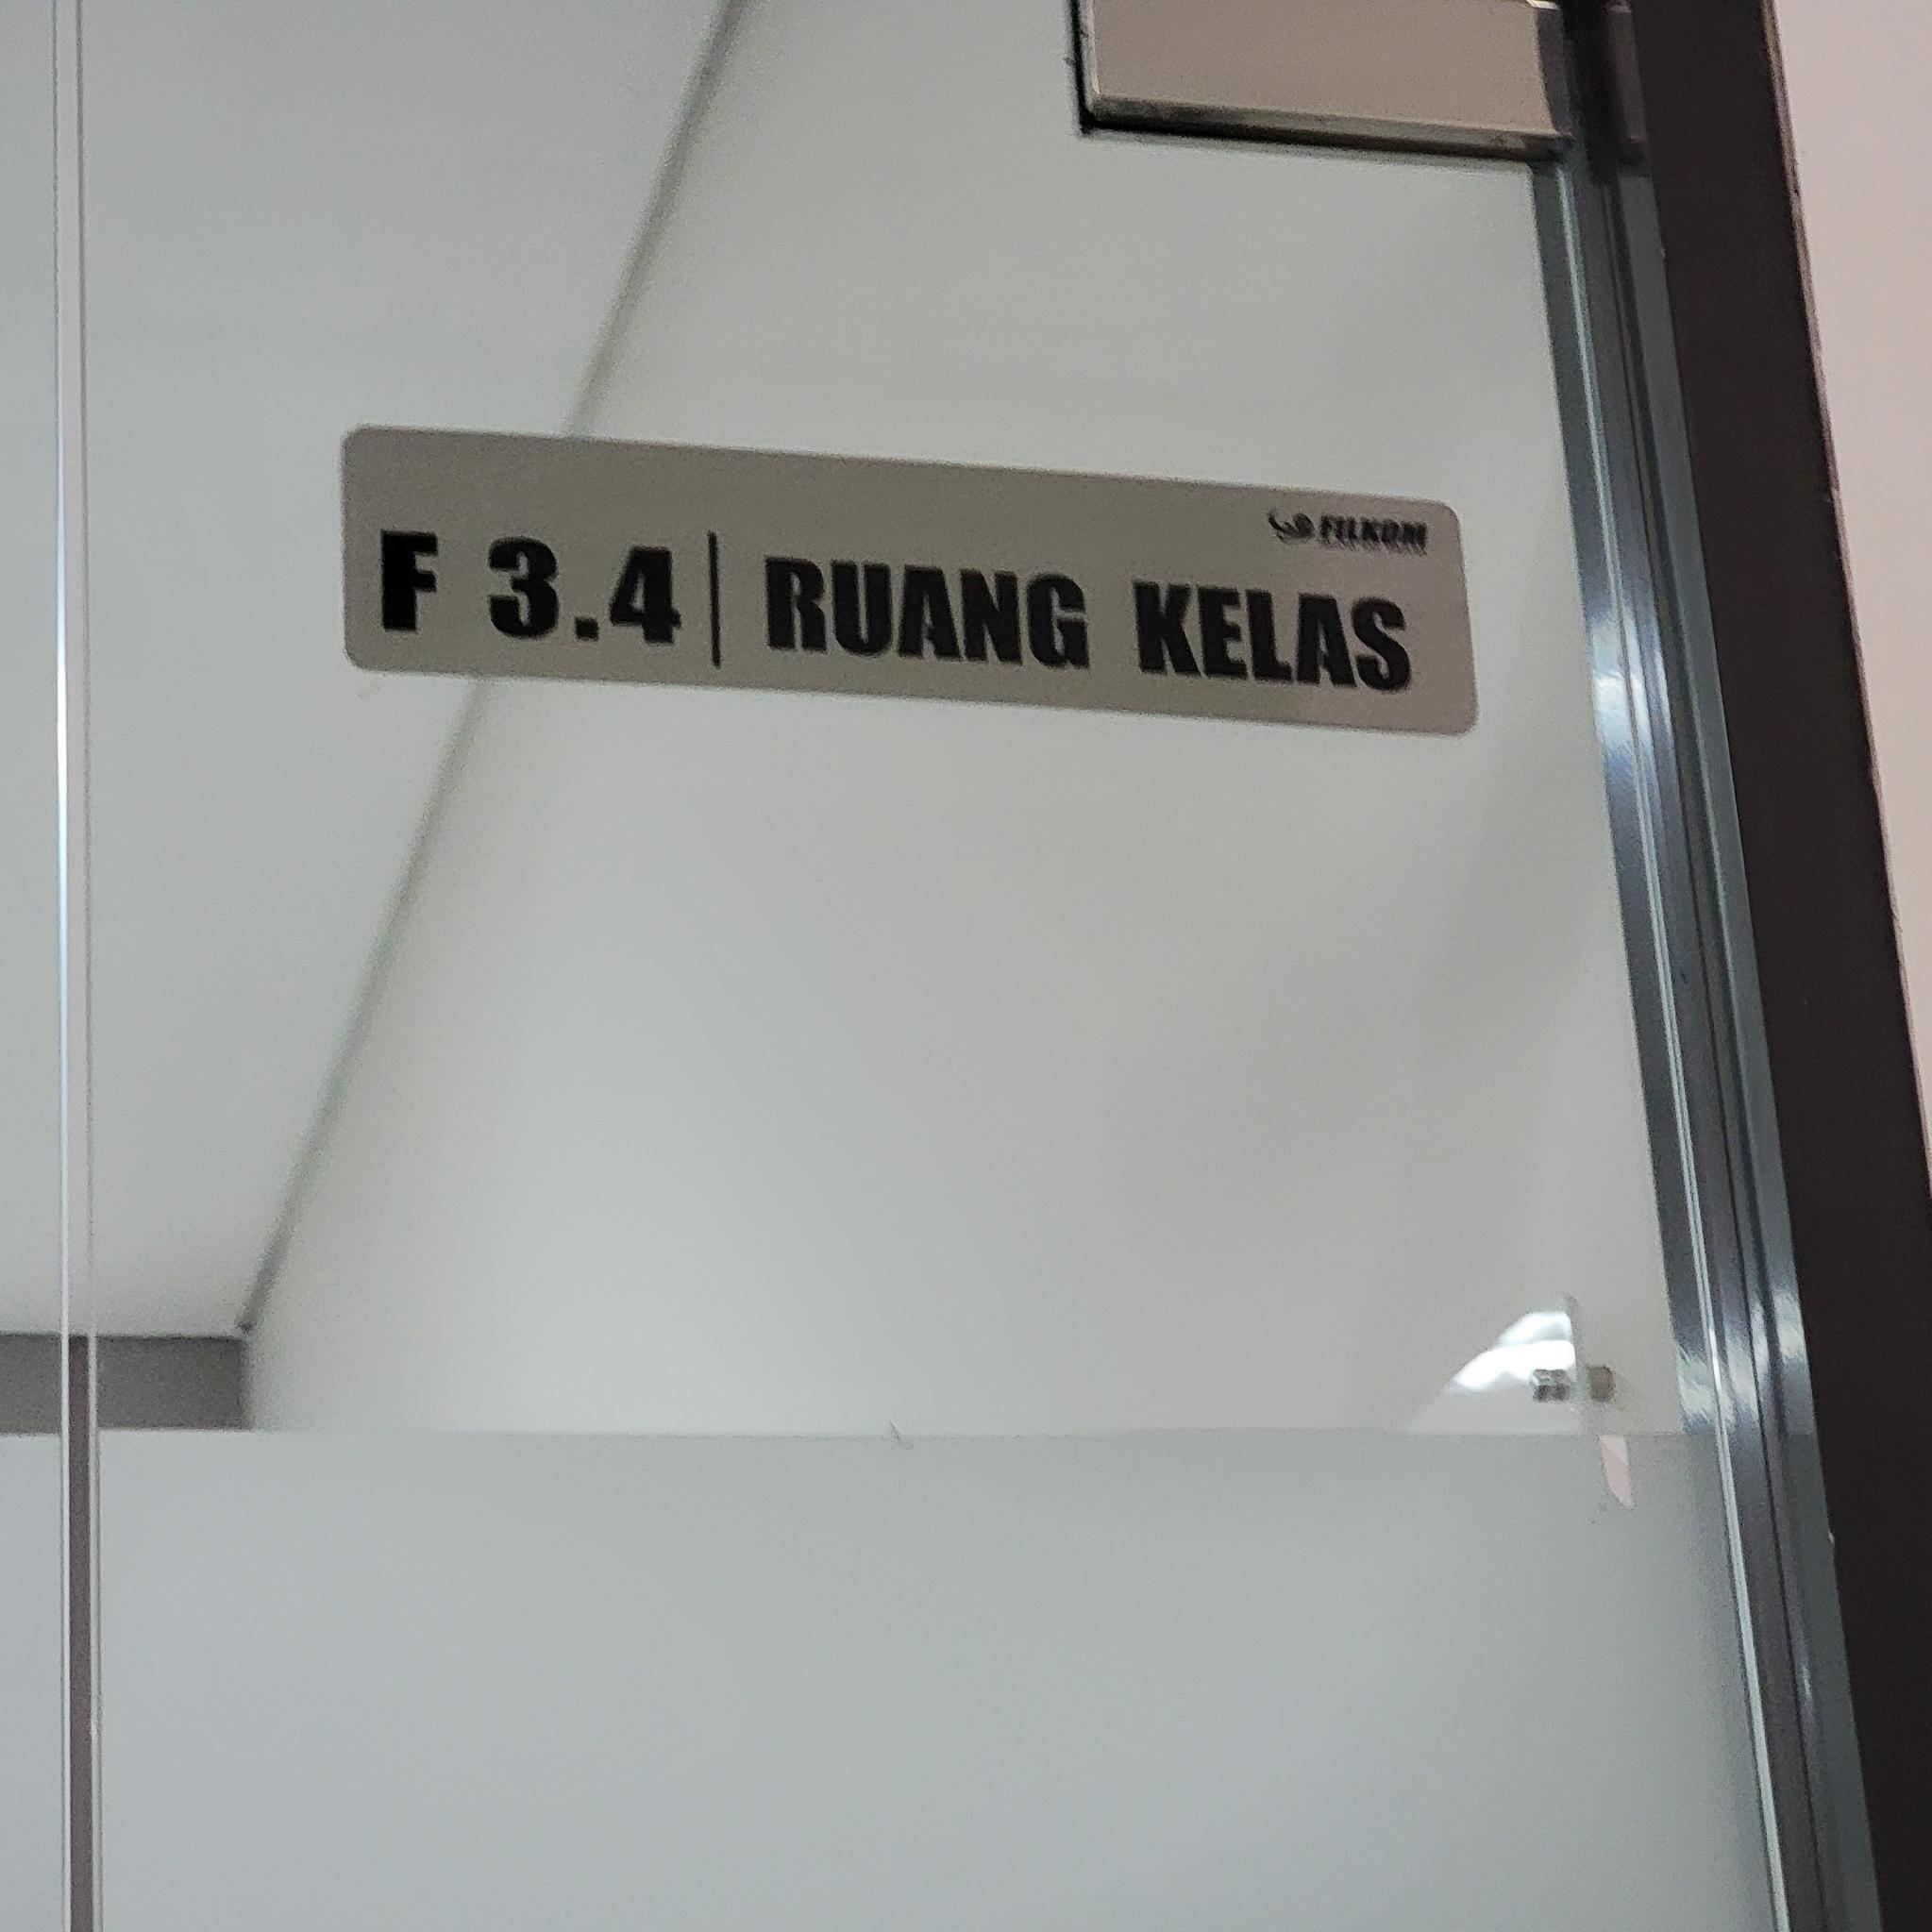plate: (338, 423, 1476, 732)
